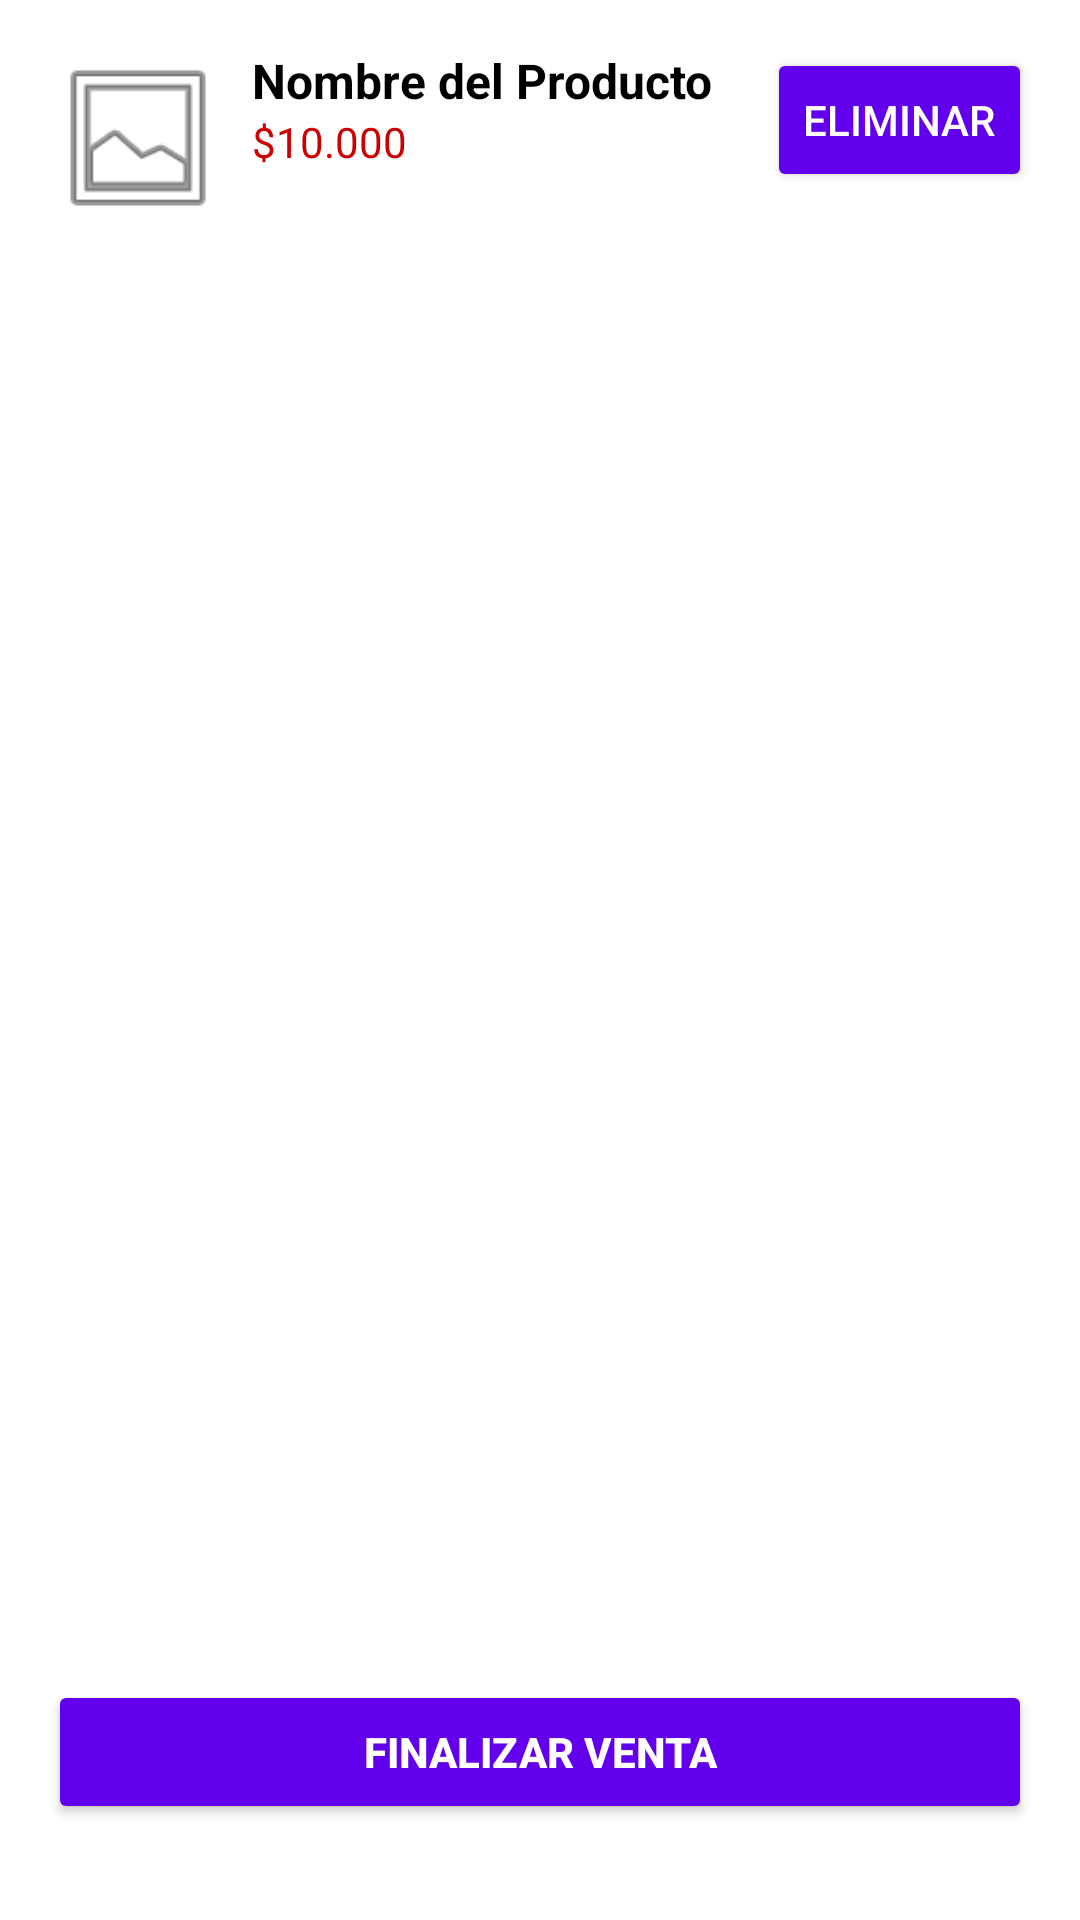

Icon click points for this 1080w x 1920h phone screenshot, format (x=x, y=y):
Imagen del producto: (x=138, y=138)
